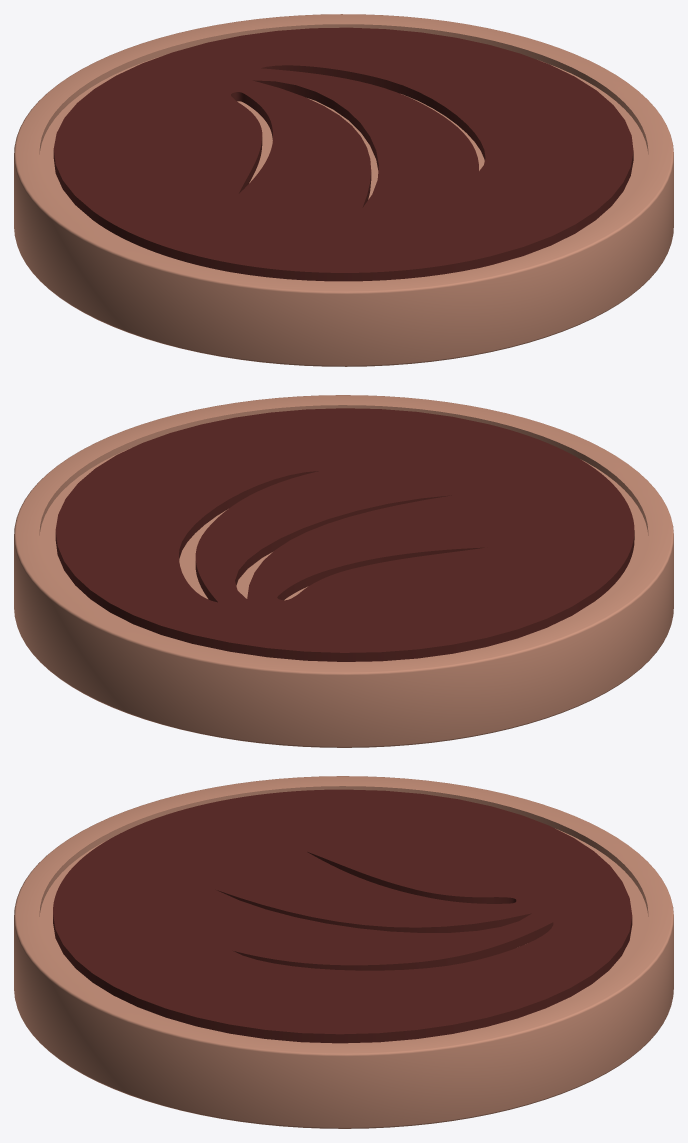
Rendered from KnotWeed_W.fbx.
3 renders of one model, top to bottom at view 1: azimuth 30°, elevation 25°; view 2: azimuth 150°, elevation 25°; view 3: azimuth 270°, elevation 25°, orthographic.
Visible parts, largest first — view 1: Tile10.001; view 2: Tile10.001; view 3: Tile10.001.
Part boxes in pixels (x1,y1,x2,y2): Tile10.001: (14, 14, 673, 366); Tile10.001: (14, 395, 673, 747); Tile10.001: (14, 776, 673, 1128).
Bounding box in the file's own units: 13.25 × 1.73 × 13.25.
